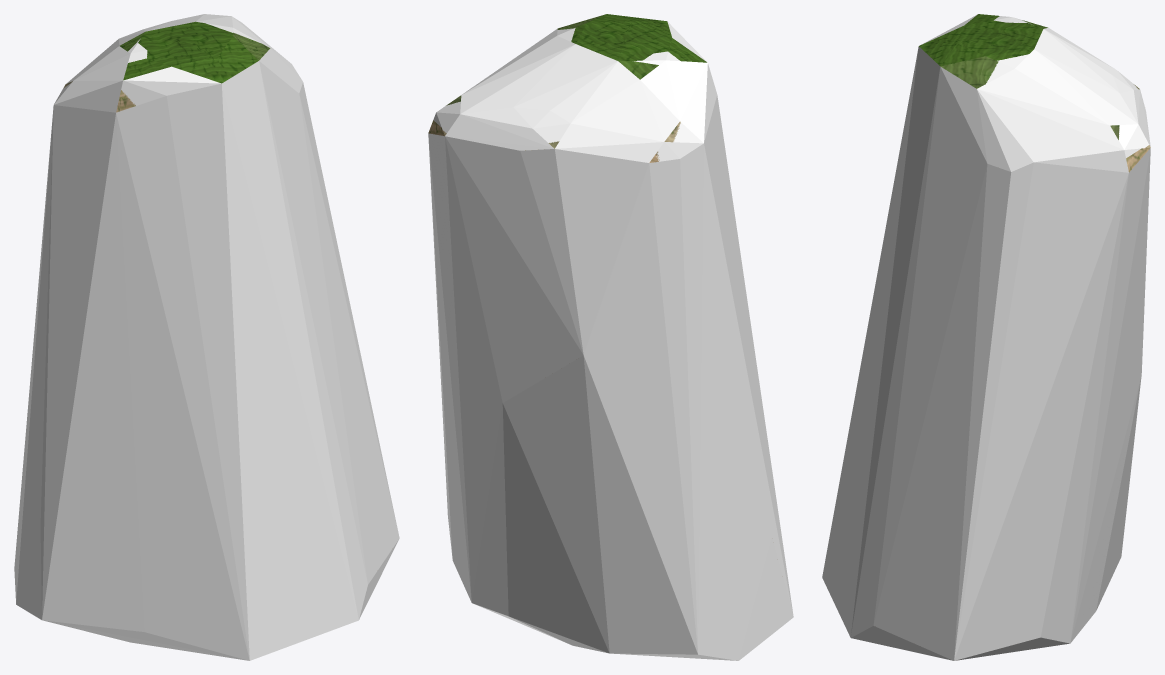
The model's file is cliff_buttress_tall.glb.
3 views of the same model, side by side, from view 1: azimuth 30°, elevation 25°; view 2: azimuth 150°, elevation 25°; view 3: azimuth 270°, elevation 25° (orthographic). The views are drawn at different scales.
Parts seen in each view (by area): view 1: col_buttress_tall, CliffButtressTall; view 2: col_buttress_tall, CliffButtressTall; view 3: col_buttress_tall, CliffButtressTall.
Part boxes in pixels (x1,y1,x2,y2): col_buttress_tall: [14, 14, 399, 660]; CliffButtressTall: [63, 21, 270, 112]; col_buttress_tall: [428, 21, 793, 660]; CliffButtressTall: [428, 14, 706, 162]; col_buttress_tall: [822, 14, 1150, 660]; CliffButtressTall: [919, 14, 1150, 172].
Size of the model in its own units: 13.05 by 19.77 by 10.64.
4 materials, 3 textured.
